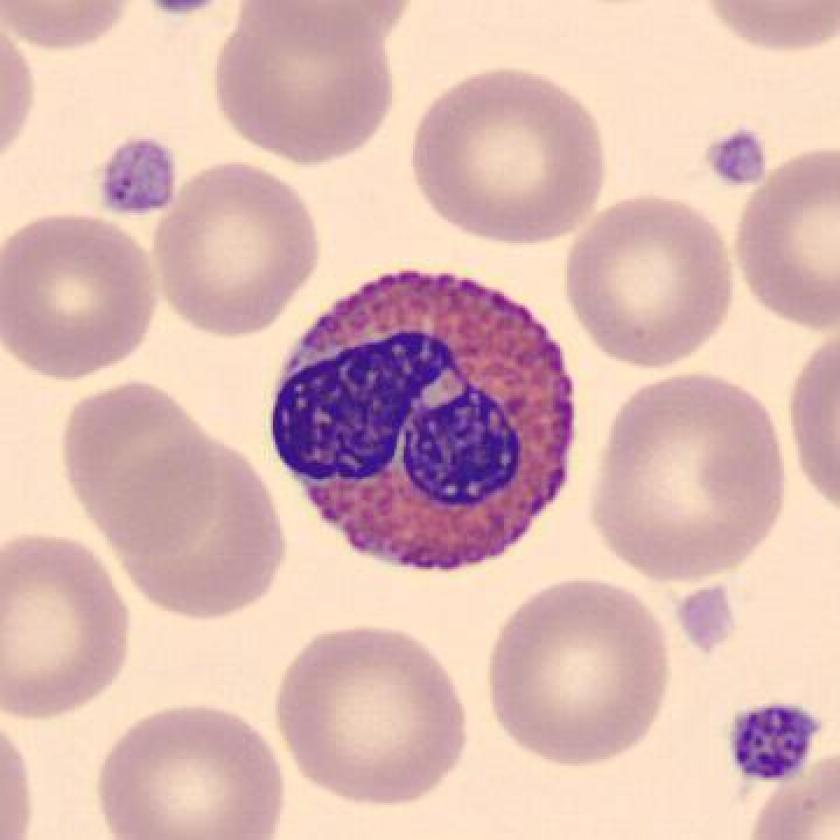eosinophil: (255, 256, 594, 580)
